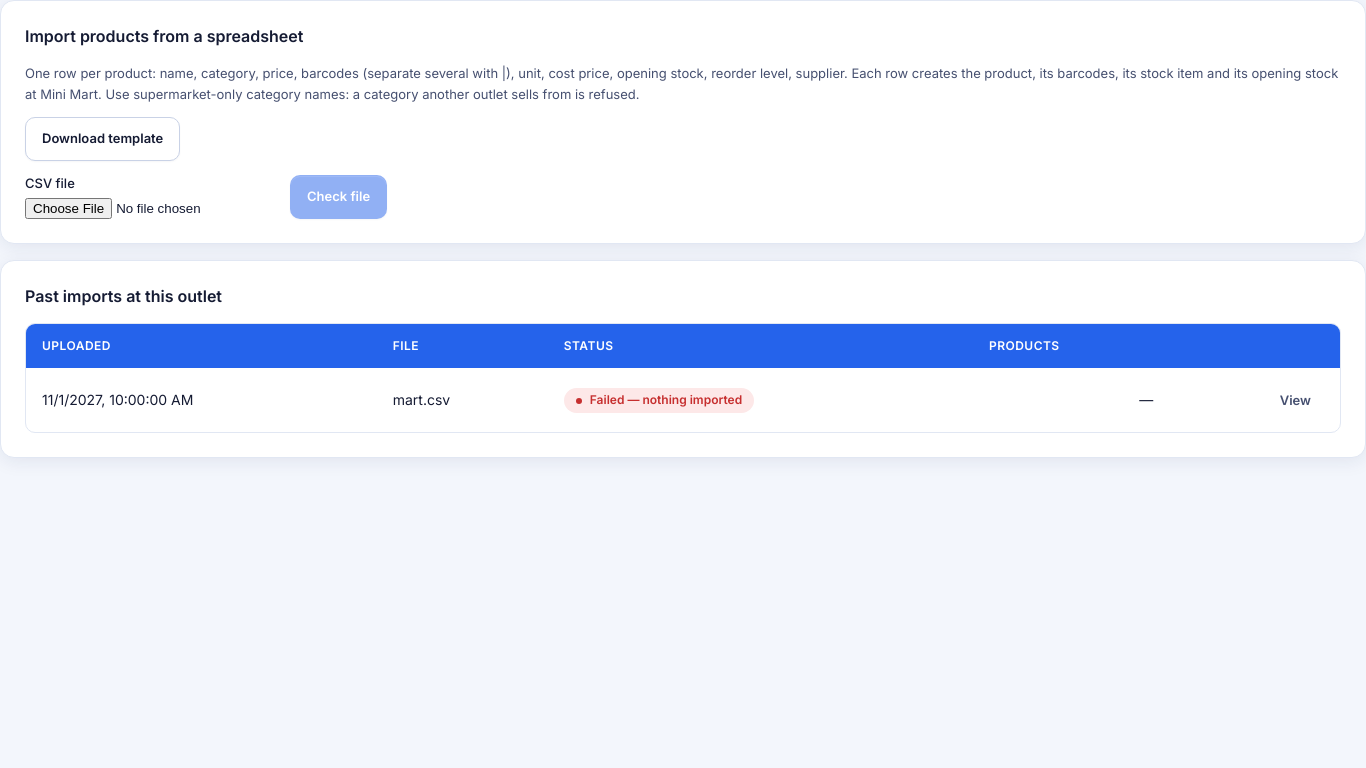
<ProductsImportPanel> › shows why a commit failed
Click the button "View" at coordinates (1295, 400), box [1267,380,1324,420]
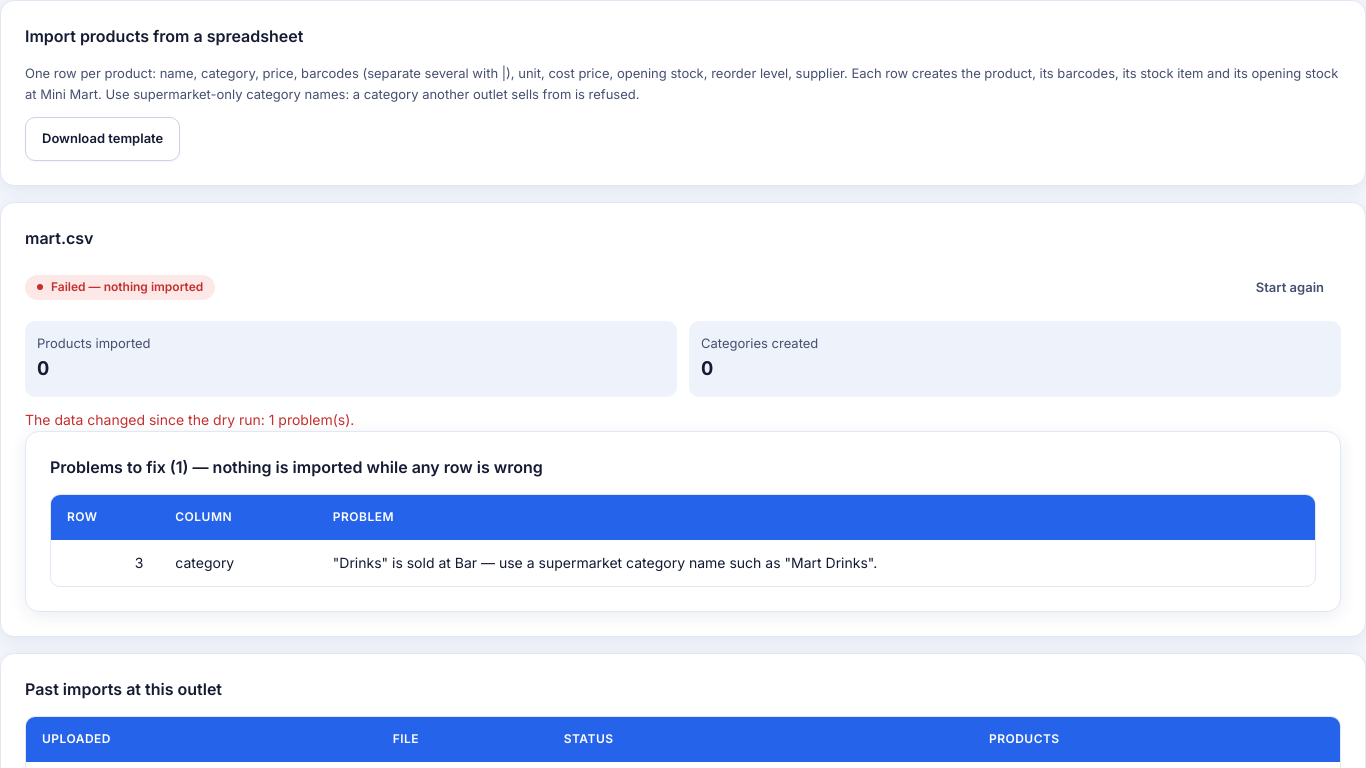
Now the message shows "The data changed since the dry run", box [25,411,354,428]
Now the text "\"Drinks\" is sold at Bar — use a supermarket category name such as \"Mart Drinks\"." is shown, box [317,539,1315,586]
